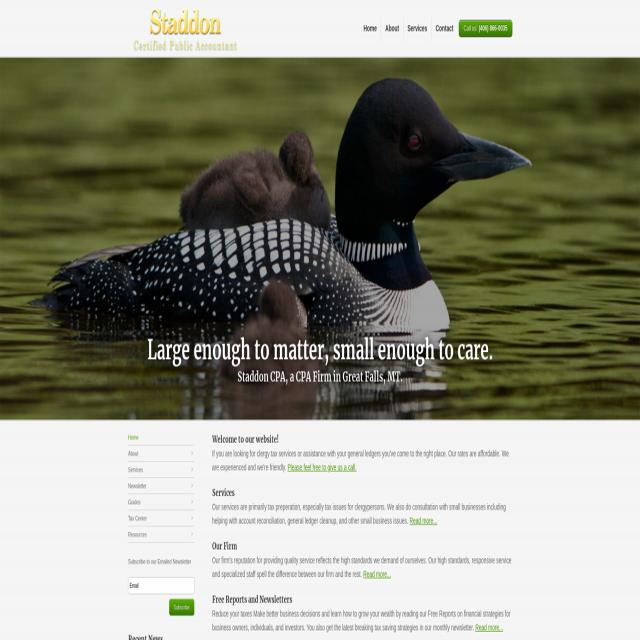button: (128, 5, 242, 52), (128, 429, 194, 445), (128, 445, 194, 461), (128, 462, 194, 478), (128, 494, 194, 510), (128, 510, 194, 526), (128, 526, 194, 542), (128, 478, 194, 493), (403, 12, 431, 45), (459, 20, 512, 36), (381, 12, 403, 45), (431, 12, 453, 45), (363, 12, 381, 45), (169, 599, 194, 615)
field: (128, 578, 194, 594)
